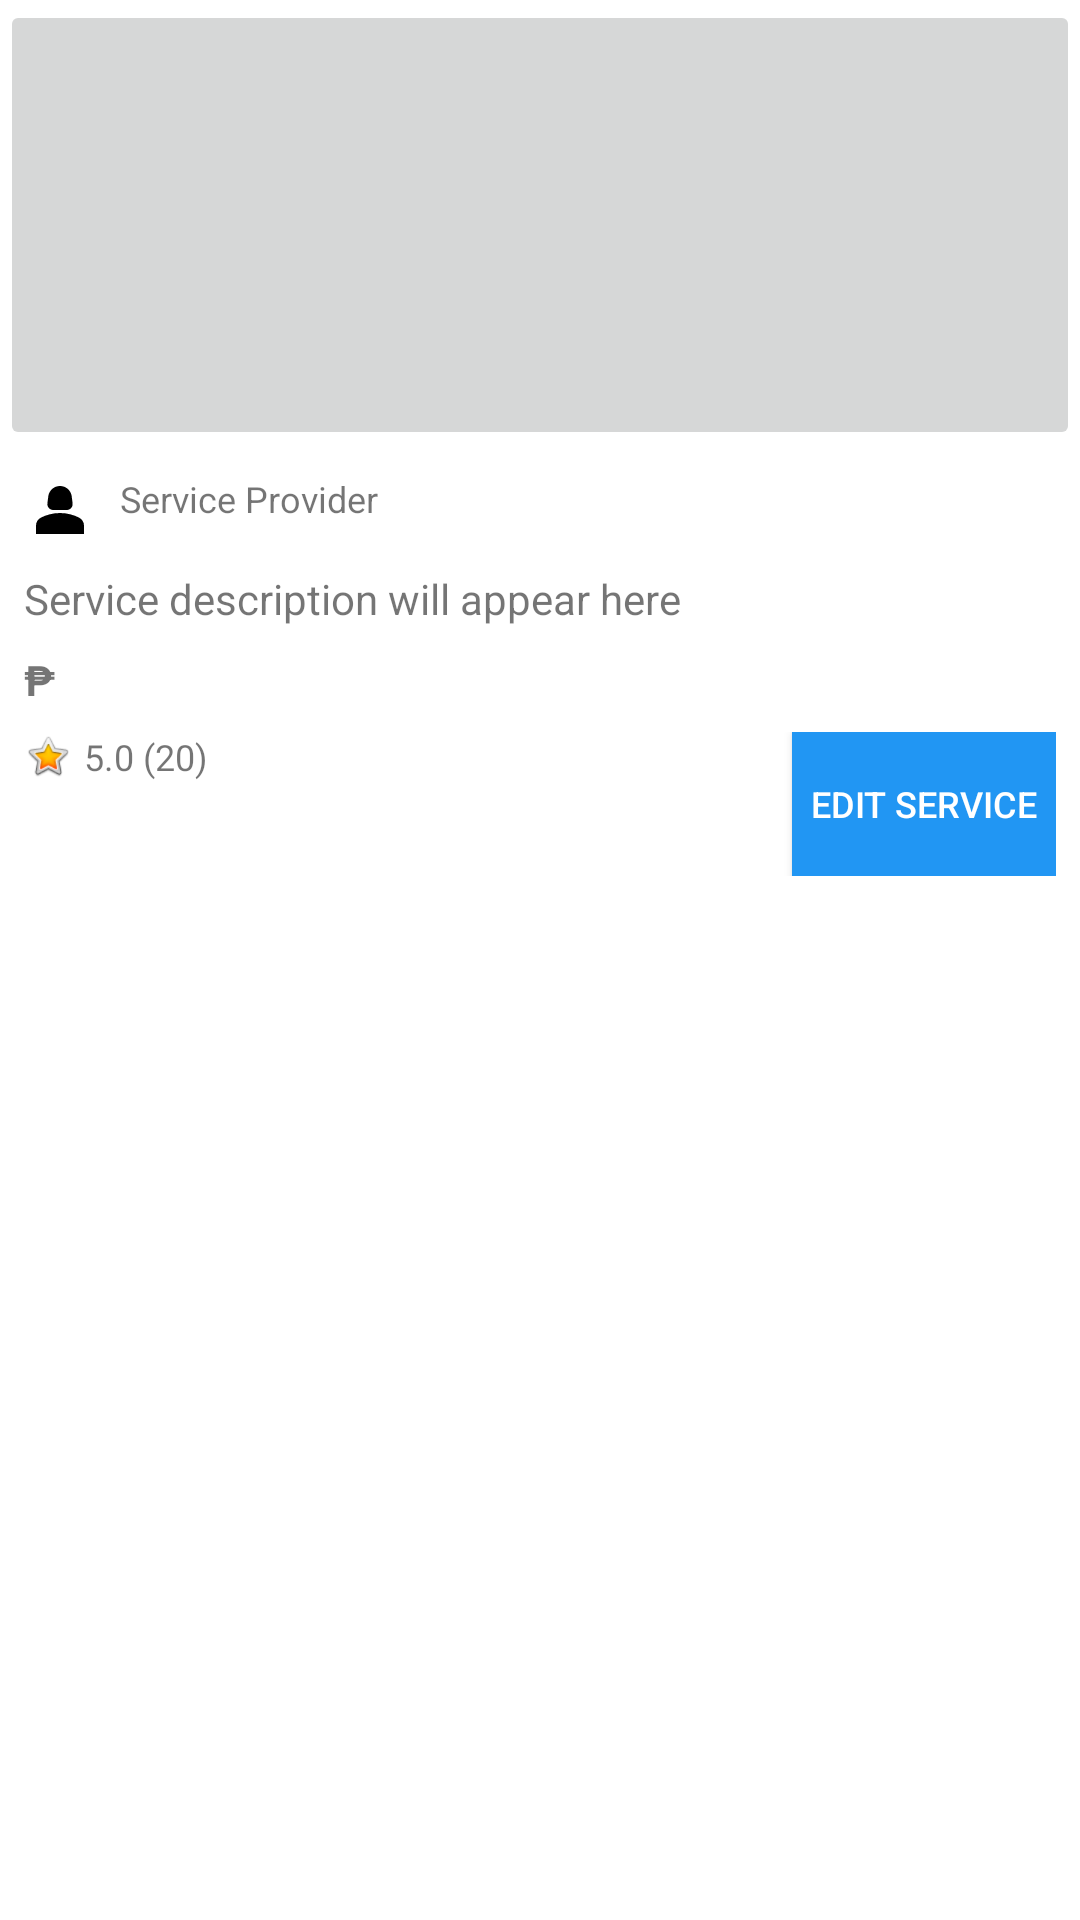

Icons on this 1080px x 1920px Android screen, each with the point to tap as point (x, y):
profile: point (60, 510)
star on: point (48, 756)
